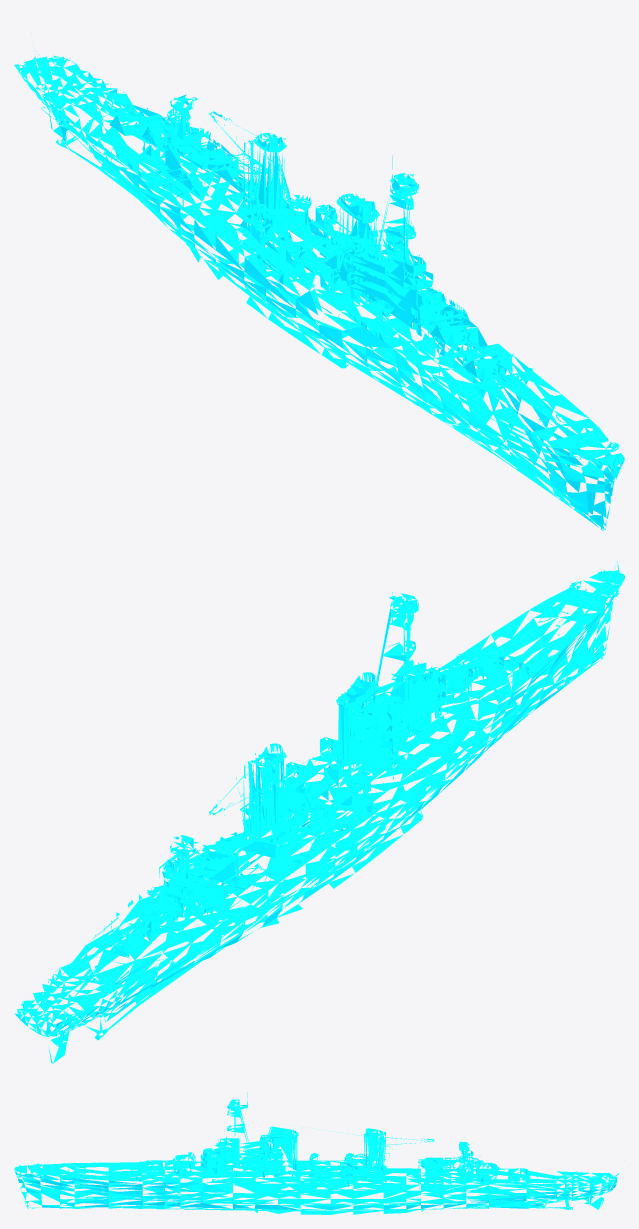
The model's file is Kotovsky.glb.
3 views of the same model, one above another, from view 1: azimuth 30°, elevation 25°; view 2: azimuth 150°, elevation 25°; view 3: azimuth 270°, elevation 25° (orthographic). The views are drawn at different scales.
Size of the model in its own units: 1.15 by 2.71 by 12.71.
